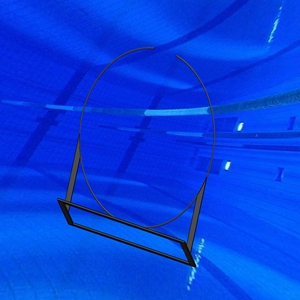circle: (56, 46, 218, 269)
